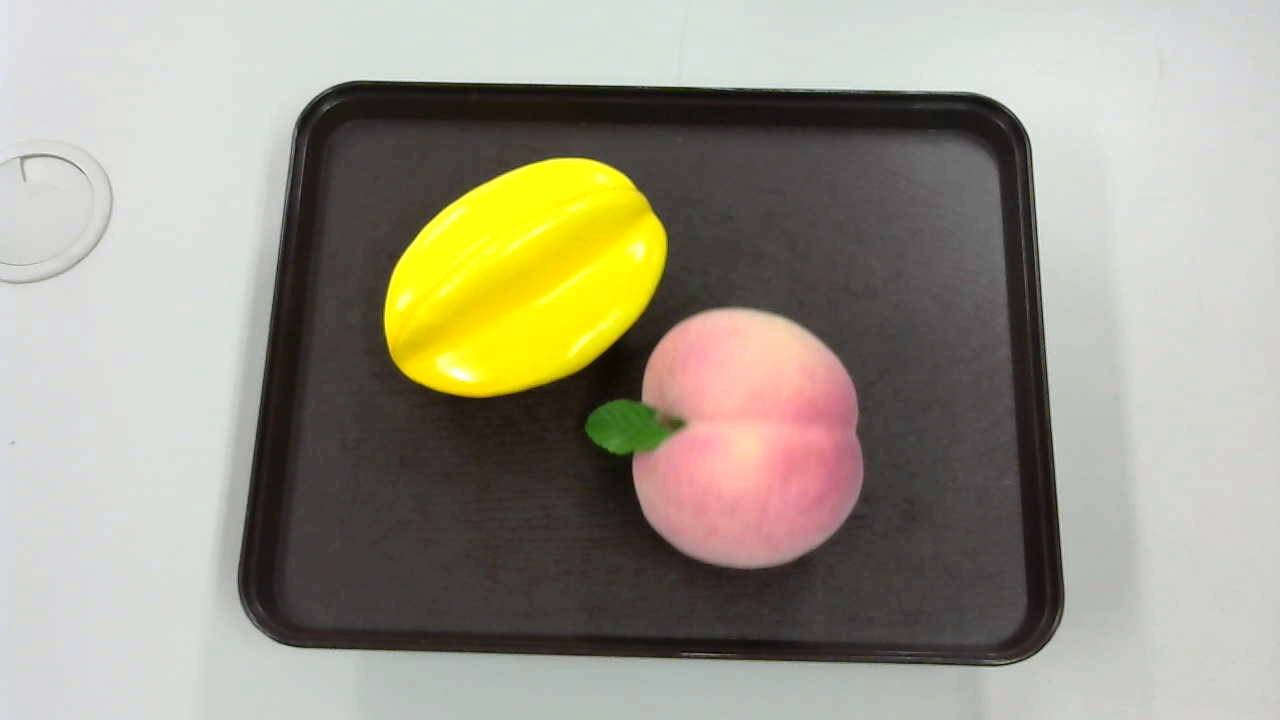peach: (584, 295, 866, 572)
star fruit: (377, 160, 672, 405)
